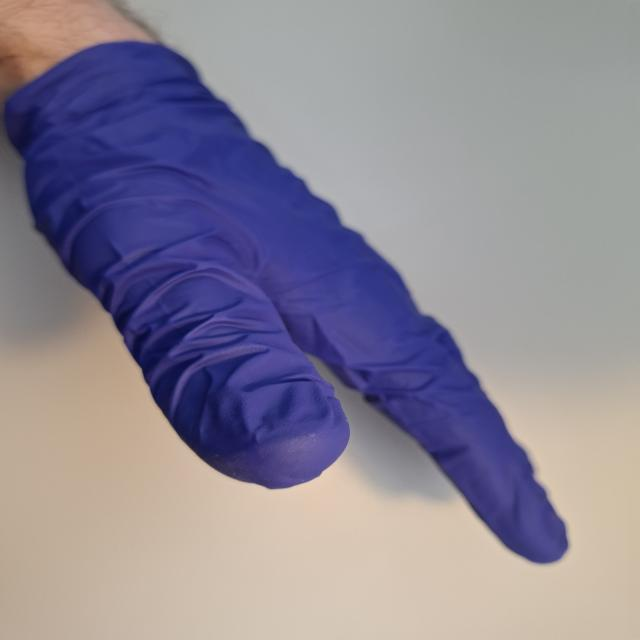glove_on: (0, 38, 572, 568)
